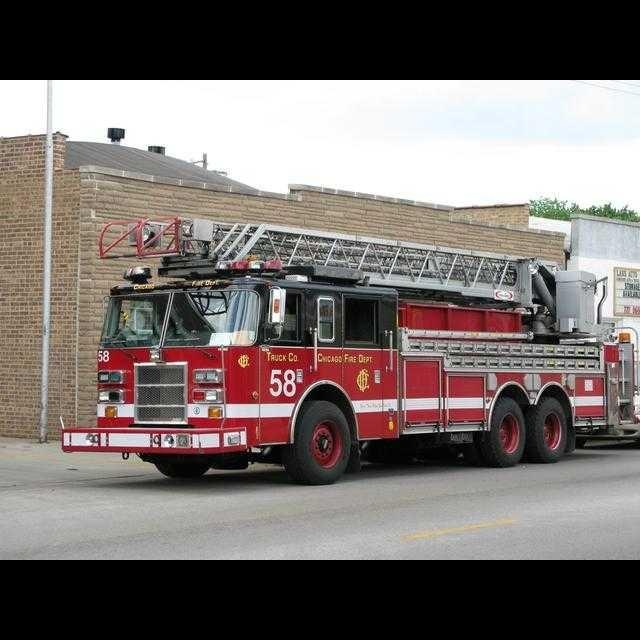emergency: (59, 217, 638, 483)
